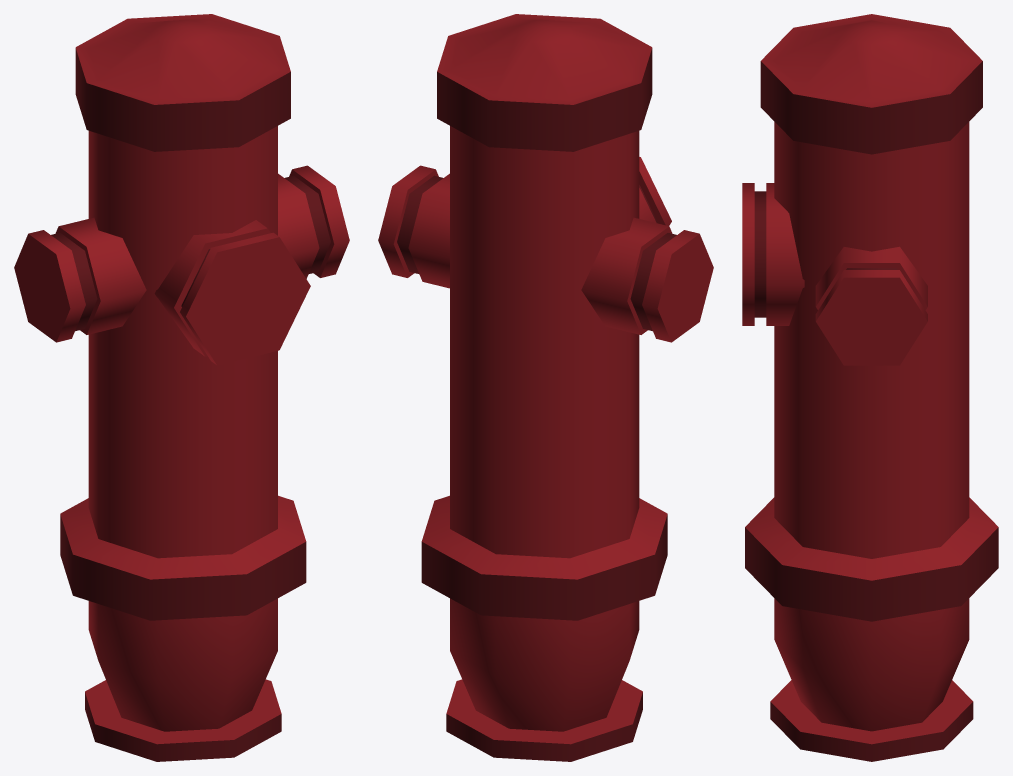
Rendered from CityObjects.fbx_Hydrant.fbx.
The picture shows the model from 3 angles, left to right: view 1: azimuth 30°, elevation 25°; view 2: azimuth 150°, elevation 25°; view 3: azimuth 270°, elevation 25°; orthographic projection.
Visible parts, largest first — view 1: Hydrant; view 2: Hydrant; view 3: Hydrant.
Part boxes in pixels (bbox=[...]): Hydrant: bbox=[14, 14, 349, 761]; Hydrant: bbox=[378, 14, 713, 761]; Hydrant: bbox=[742, 14, 998, 761].
Size of the model in its own units: 32.93 by 78.09 by 26.28.
